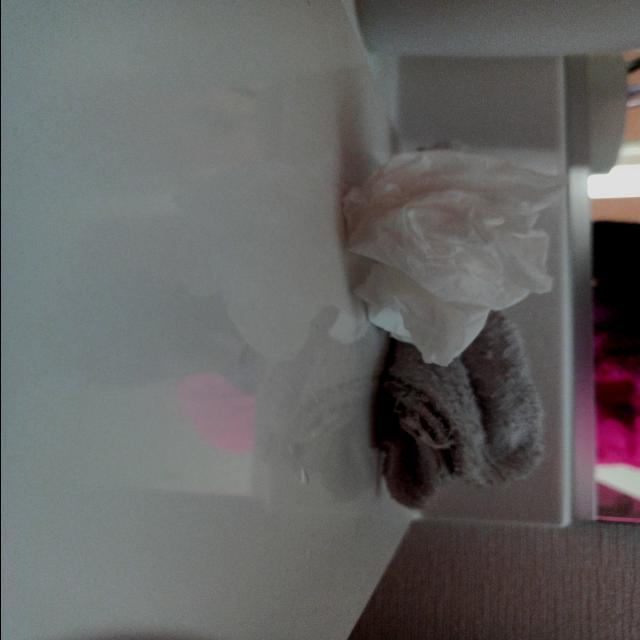Paper: (300, 108, 591, 367)
